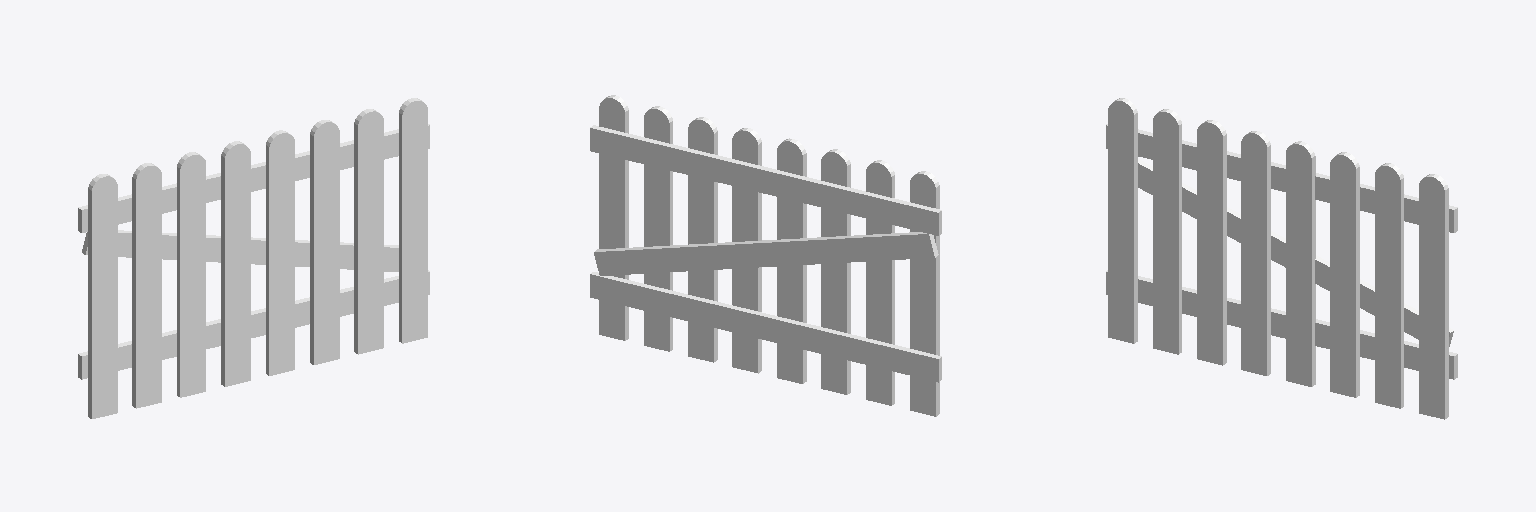
The model's file is fence_1.obj.
The picture shows the model from 3 angles: view 1: azimuth 30°, elevation 25°; view 2: azimuth 150°, elevation 25°; view 3: azimuth 330°, elevation 25°; orthographic projection.
Parts seen in each view (by area): view 1: plank20.005_Mesh.181; view 2: plank20.005_Mesh.181; view 3: plank20.005_Mesh.181.
Part boxes in pixels (x1,y1,x2,y2): plank20.005_Mesh.181: (78, 98, 429, 418); plank20.005_Mesh.181: (590, 95, 941, 416); plank20.005_Mesh.181: (1106, 98, 1457, 419).
Size of the model in its own units: 1.88 by 1.24 by 0.069.